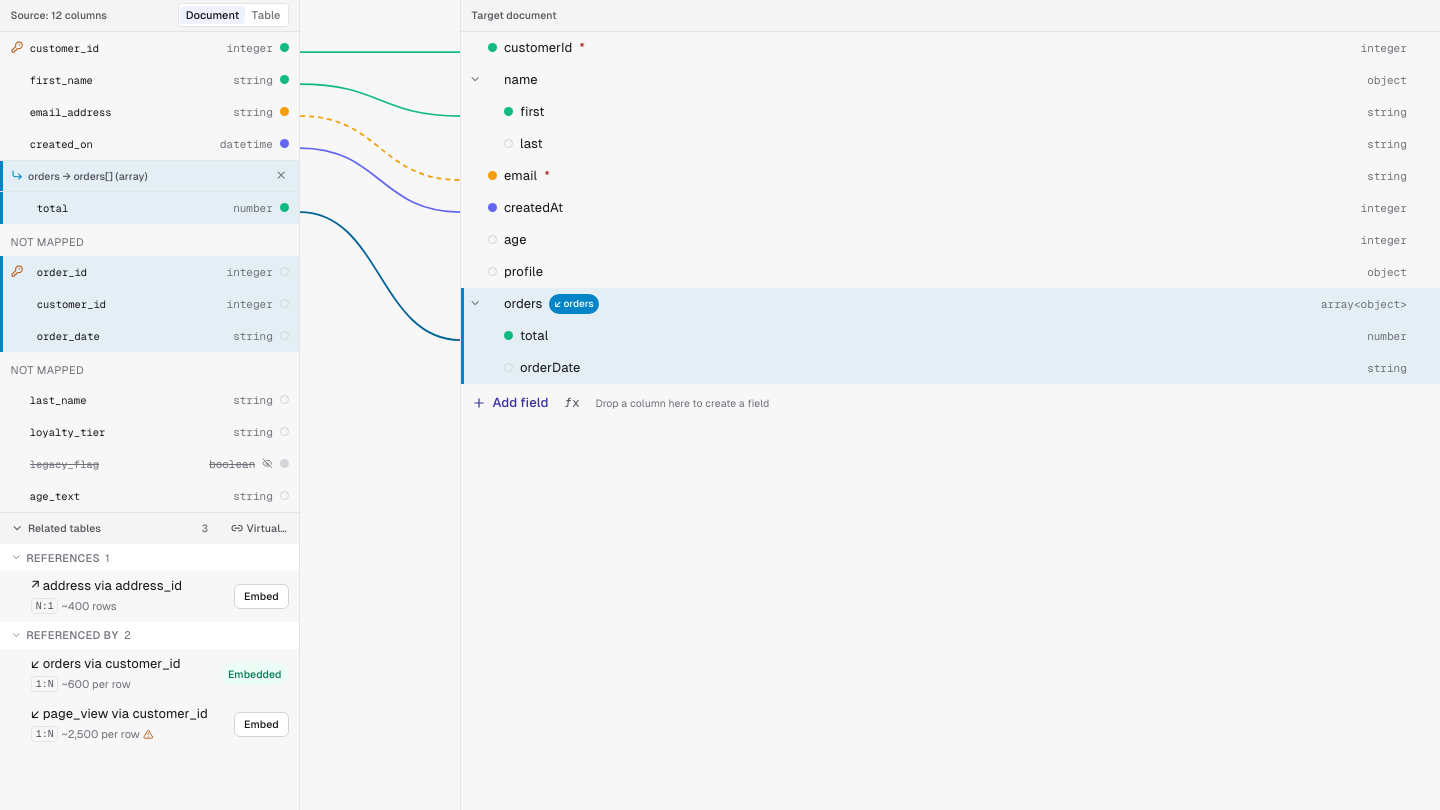
Test: EmbedDialog › AC2: creates embed and field
The image size is (1440, 810).
Click the button "Embed" next to "↙ page_view via customer_id" at (261, 724), box [234,712,288,736]
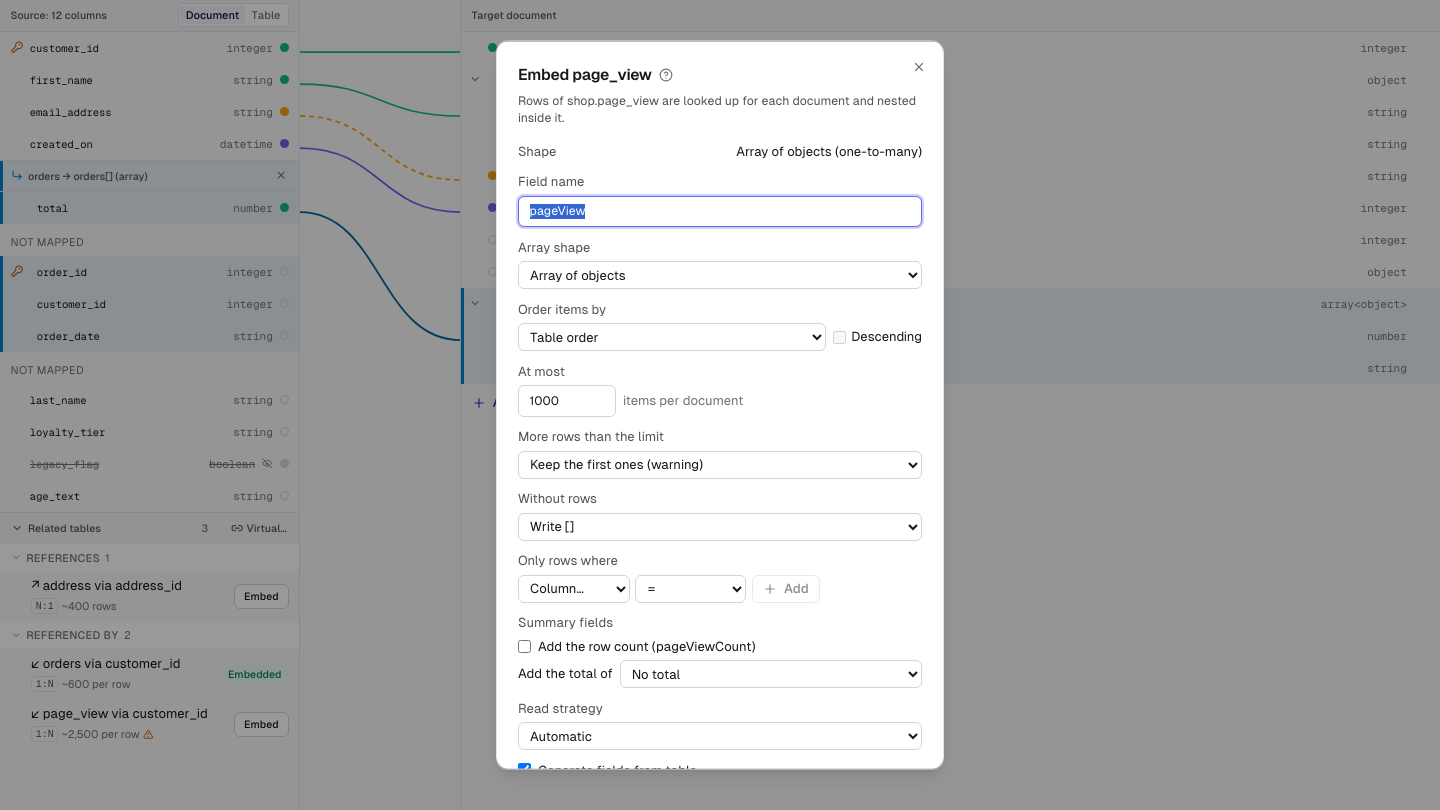
Now the dialog "Embed page_view" shows "Array of objects (one-to-many)", box [736,143,922,158]
Now the field labelled "Field name" holds "pageView"
Replace the text in the field labelled "Field name" with "views" at (720, 211), box [518,195,922,227]
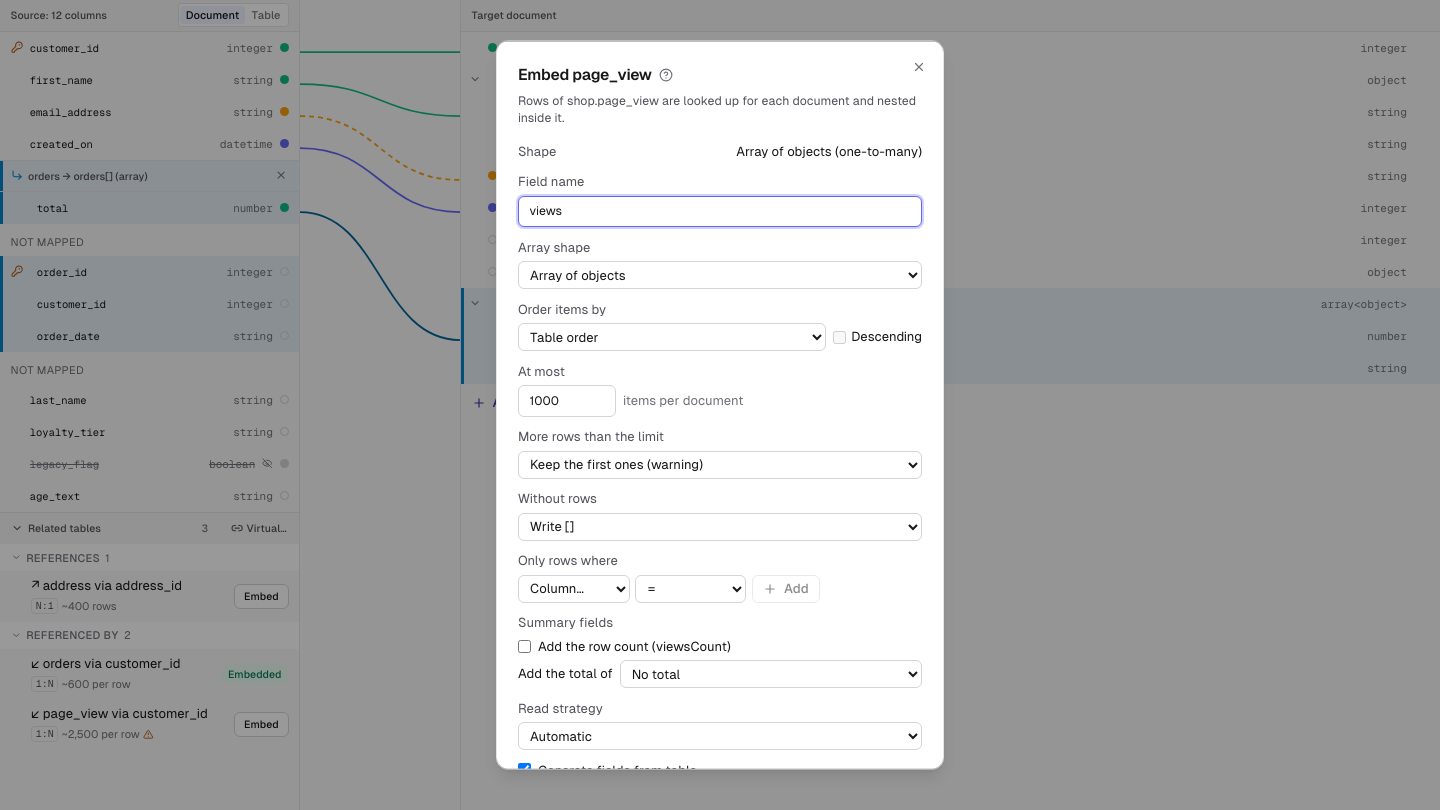
Select "viewed_at" in the dropdown labelled "Order items by" at (672, 337), box [518,323,826,351]
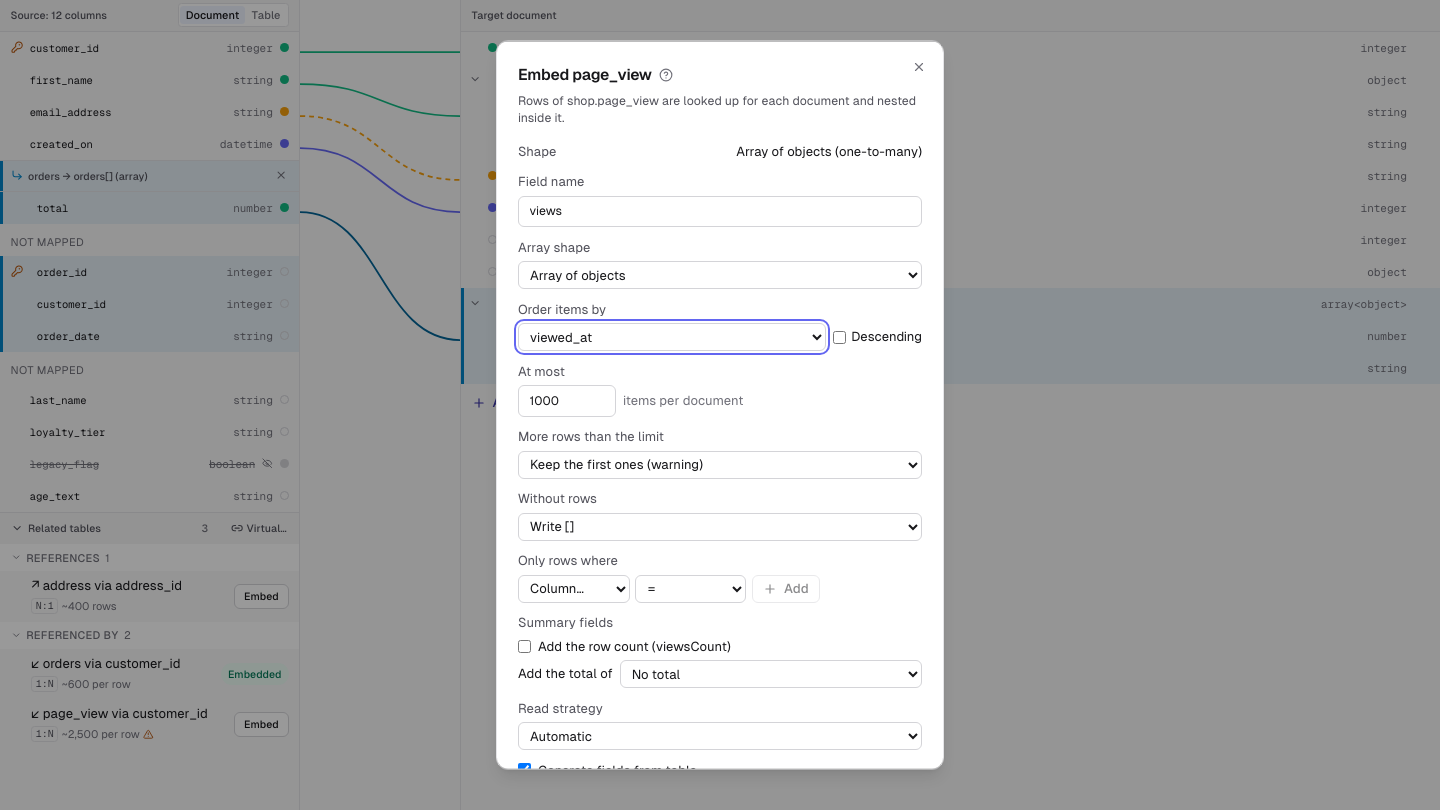
Click the checkbox labelled "Descending" at (839, 337), box [833,330,846,343]
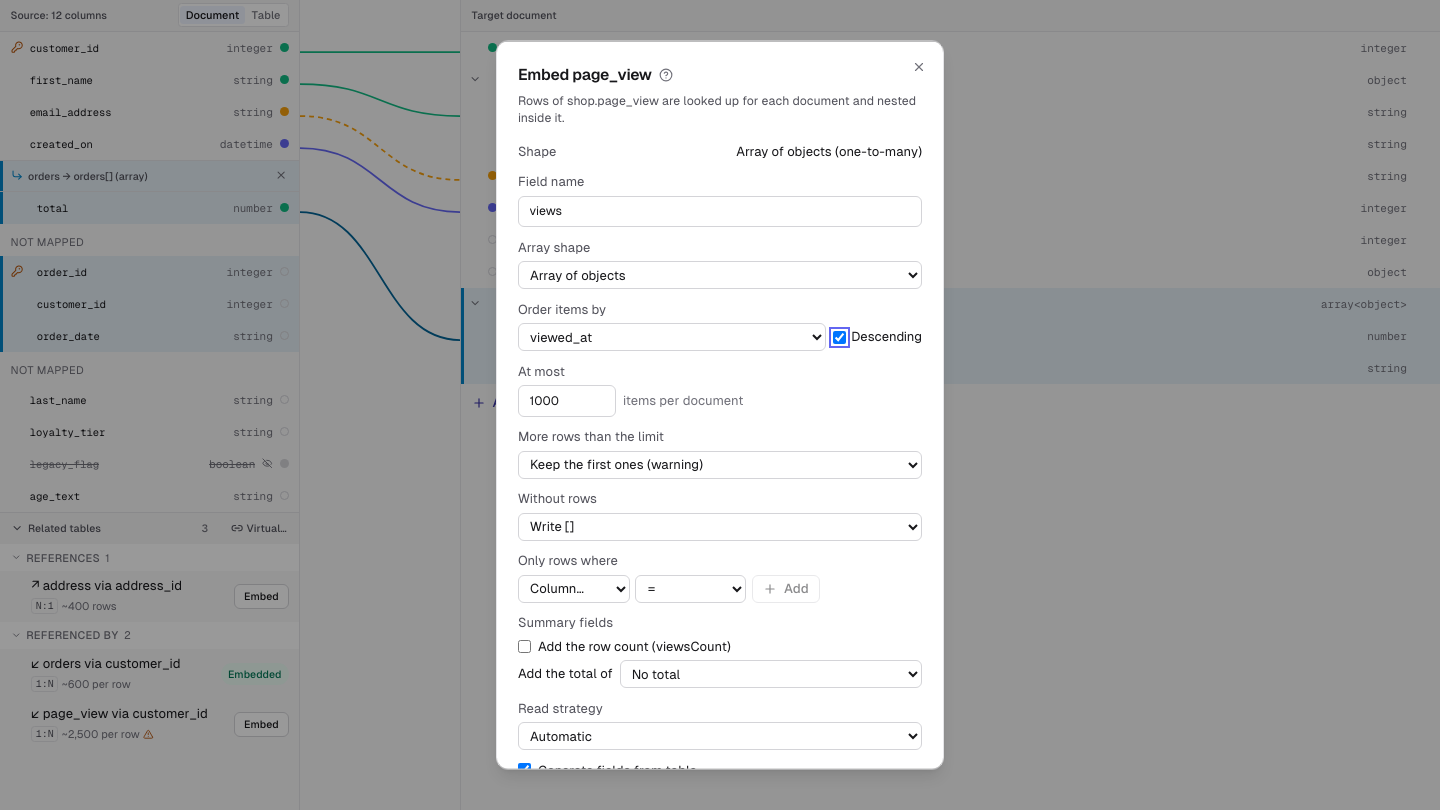
Replace the text in the number field labelled "At most" with "50" at (567, 401), box [518,385,616,416]
(page scrolled)
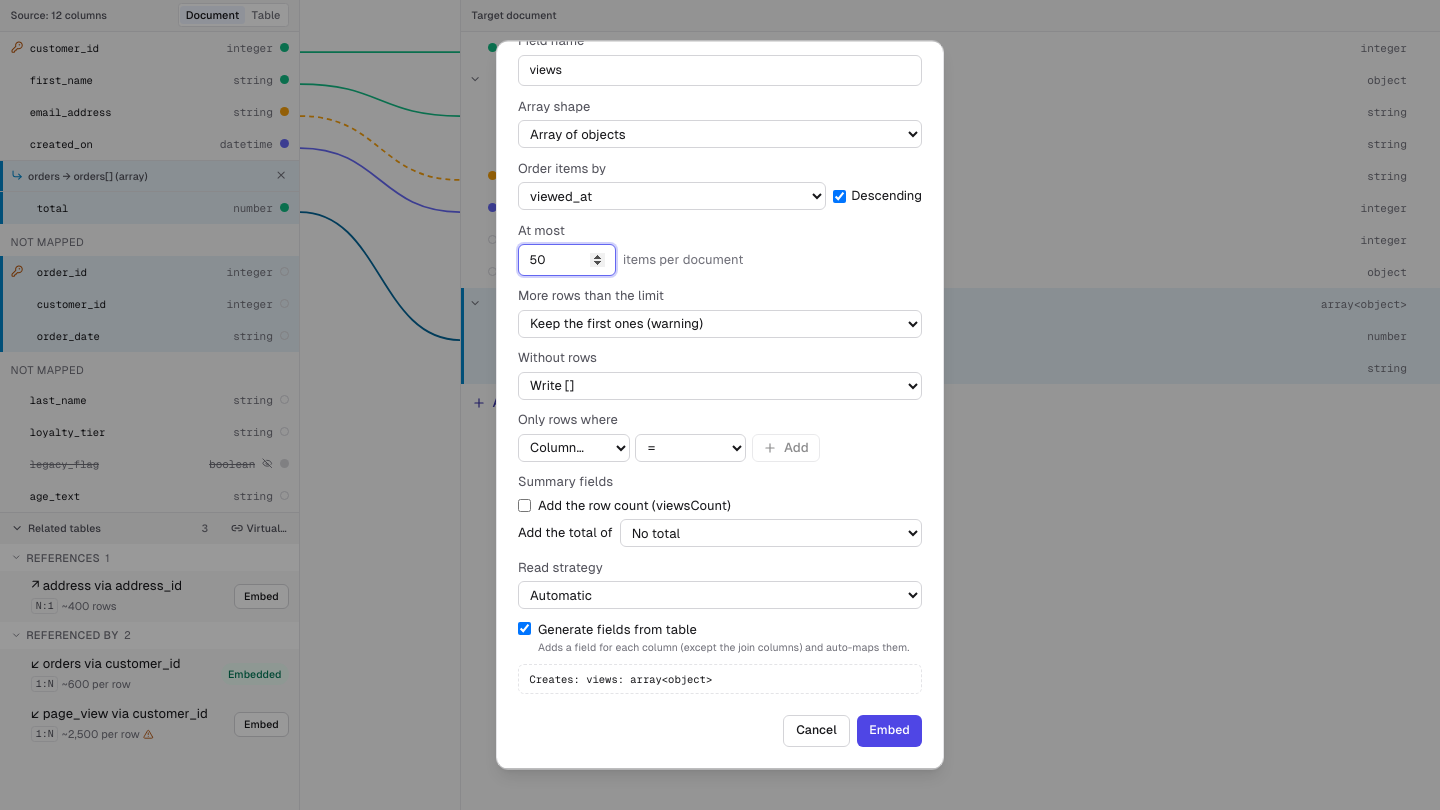
Now the checkbox labelled "Generate fields from table" is checked, box [518,622,531,635]
Click the button "Embed" at (890, 732), box [857,716,922,747]
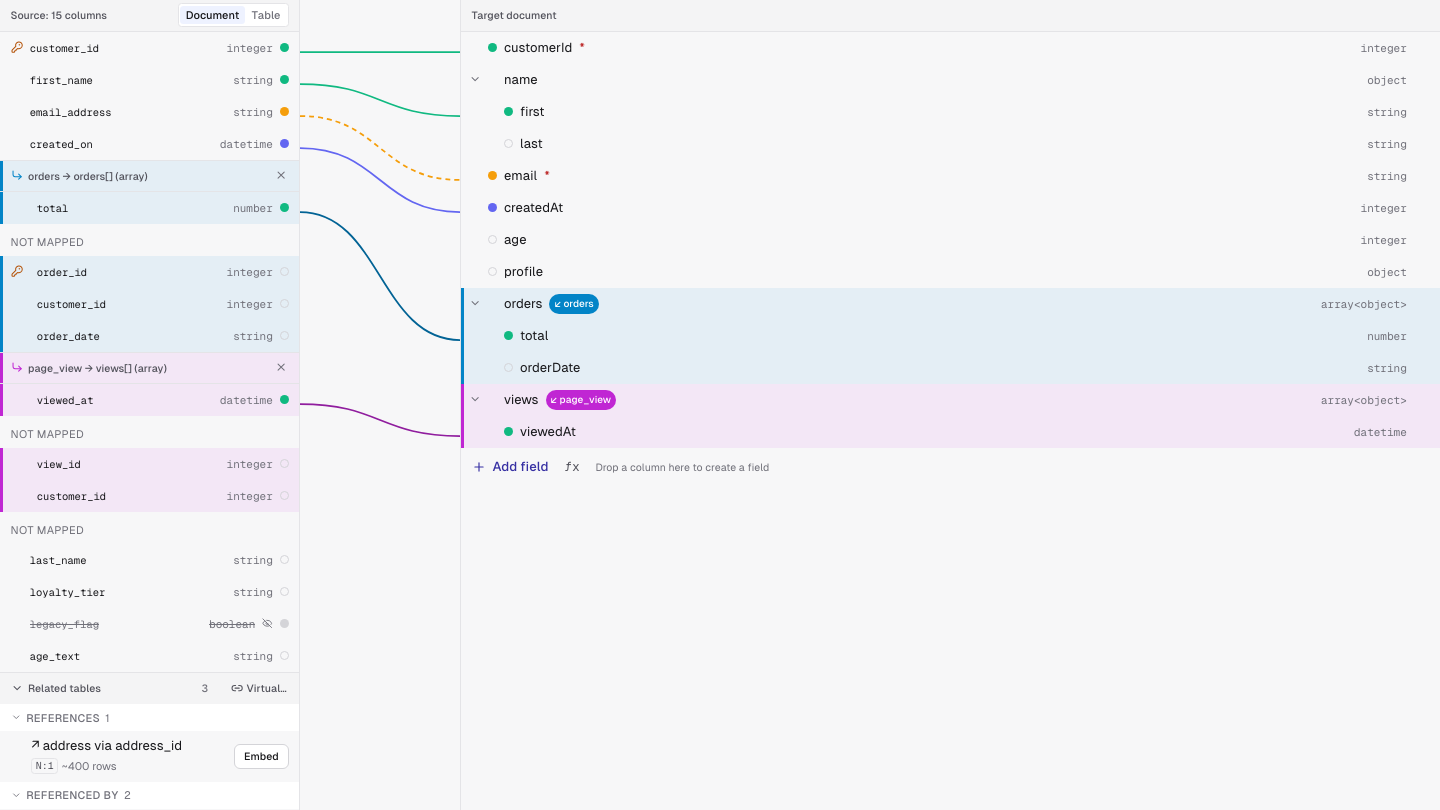
Now the dialog is gone
Now the element with test id "embed-group-emb_pv" reads "page_view → views[] (array)", box [28,362,167,374]
Now the element with test id "source-emb_pv:viewed_at" is shown, box [0,384,299,416]
